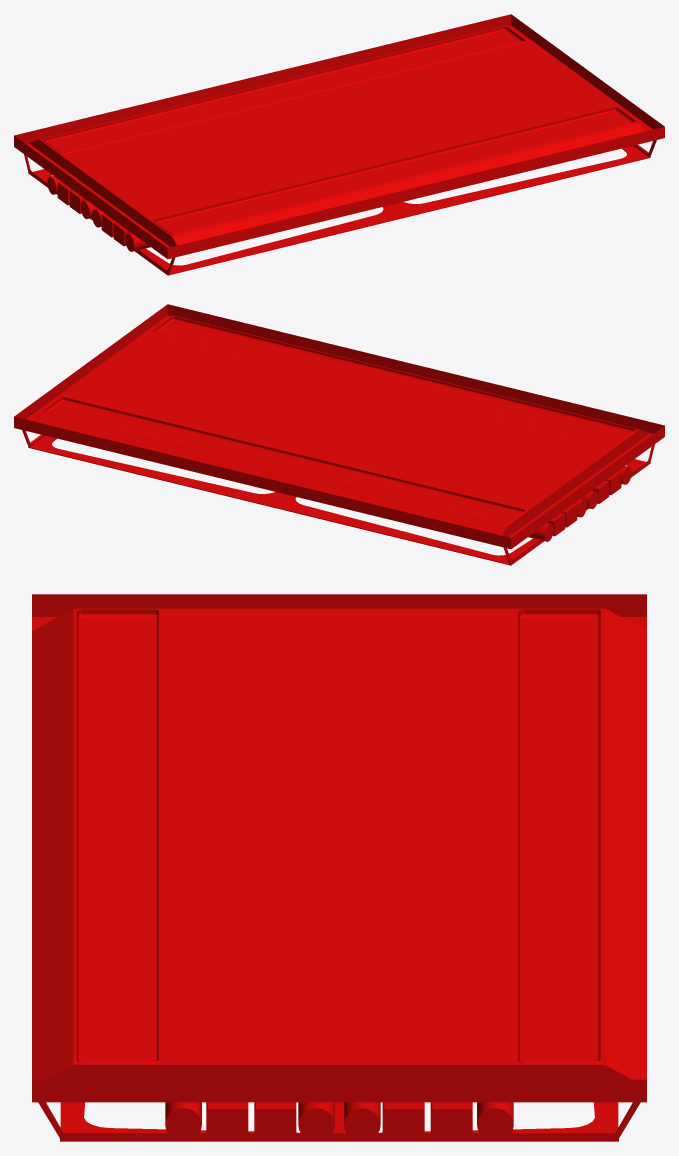
File: Ceiling_7.fbx
3 renders of one model, top to bottom at view 1: azimuth 30°, elevation 25°; view 2: azimuth 150°, elevation 25°; view 3: azimuth 270°, elevation 25°, orthographic. The views are drawn at different scales.
Visible parts, largest first — view 1: polySurface2220; view 2: polySurface2220; view 3: polySurface2220.
Boxes of the visible parts, bbox=[...] form: polySurface2220: bbox=[14, 14, 664, 275]; polySurface2220: bbox=[14, 304, 664, 565]; polySurface2220: bbox=[32, 594, 646, 1141].
Size of the model in its own units: 604 by 41 by 323.
